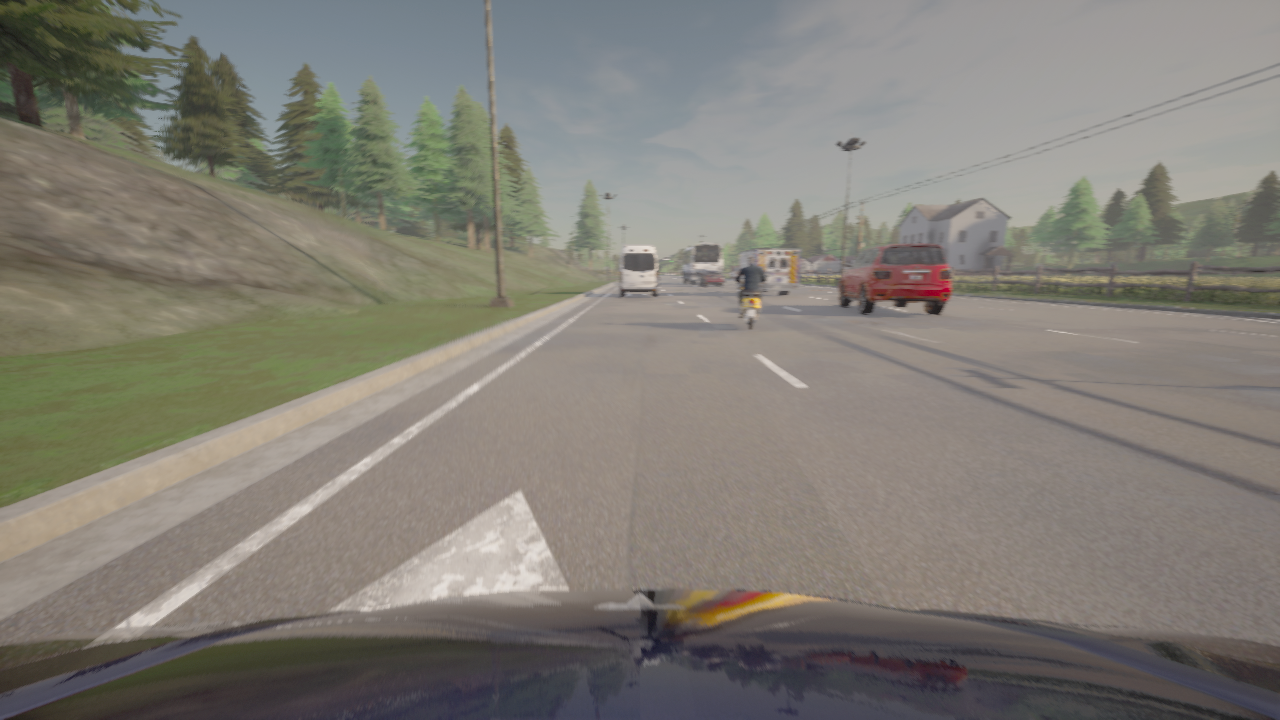cyclist: (0, 588, 1279, 719), (840, 243, 951, 314), (734, 249, 800, 295), (731, 272, 769, 329), (619, 245, 658, 296), (679, 243, 721, 283), (700, 270, 724, 286)
